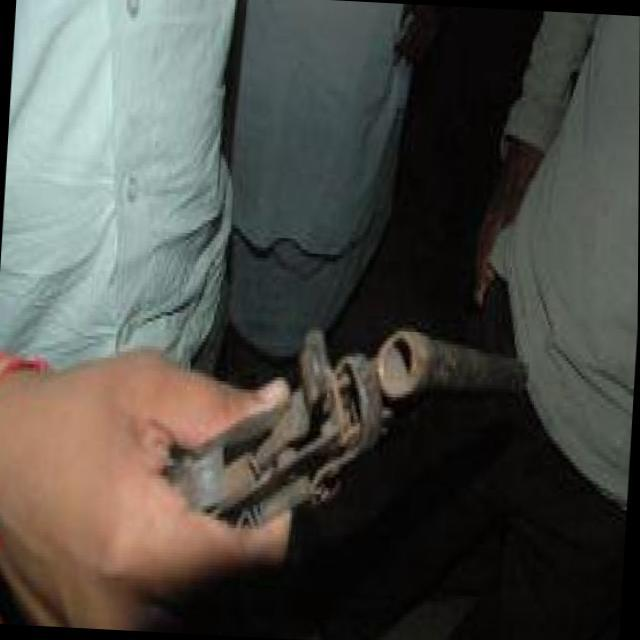weapon: (52, 303, 538, 640)
